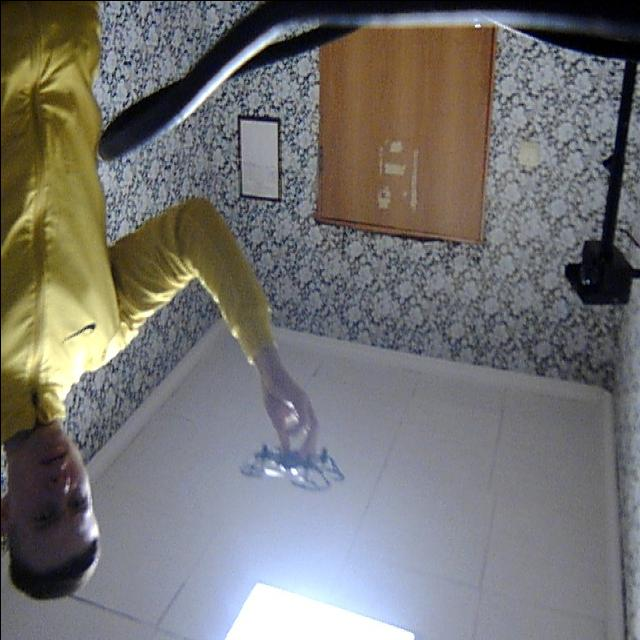drone: (236, 434, 344, 502)
